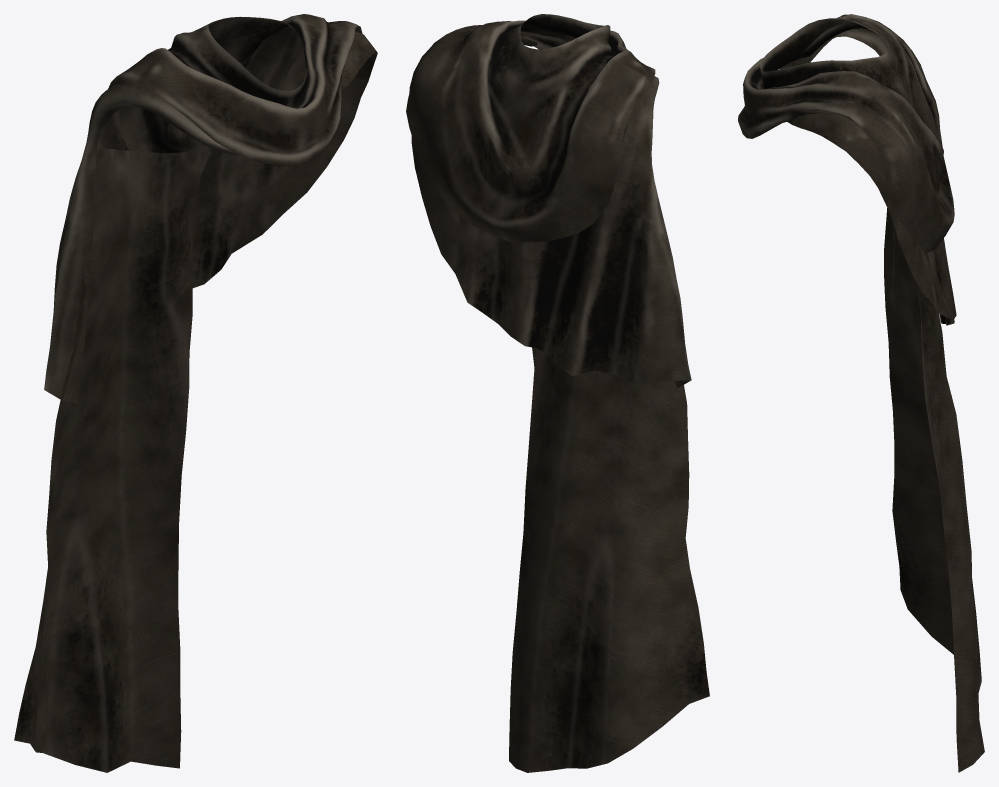
Rendered from dunland_wulf_cape_short_a.fbx.
The picture shows the model from 3 angles, left to right: view 1: azimuth 30°, elevation 25°; view 2: azimuth 150°, elevation 25°; view 3: azimuth 270°, elevation 25°; orthographic projection. The views are drawn at different scales.
Visible parts, largest first — view 1: dunland_wulf_cape_short_a; view 2: dunland_wulf_cape_short_a; view 3: dunland_wulf_cape_short_a.
Boxes of the visible parts, x1=… form: dunland_wulf_cape_short_a: x1=14, y1=14, x2=377, y2=772; dunland_wulf_cape_short_a: x1=406, y1=14, x2=709, y2=772; dunland_wulf_cape_short_a: x1=738, y1=14, x2=984, y2=772.
Size of the model in its own units: 0.6346 by 0.4153 by 1.37.
Materials: 1 (1 with a texture image).
